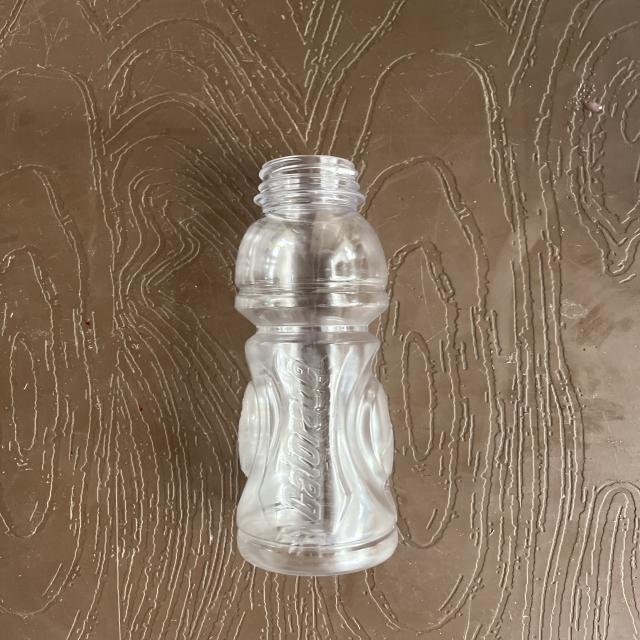PET_ClearBottle: (214, 158, 562, 580)
